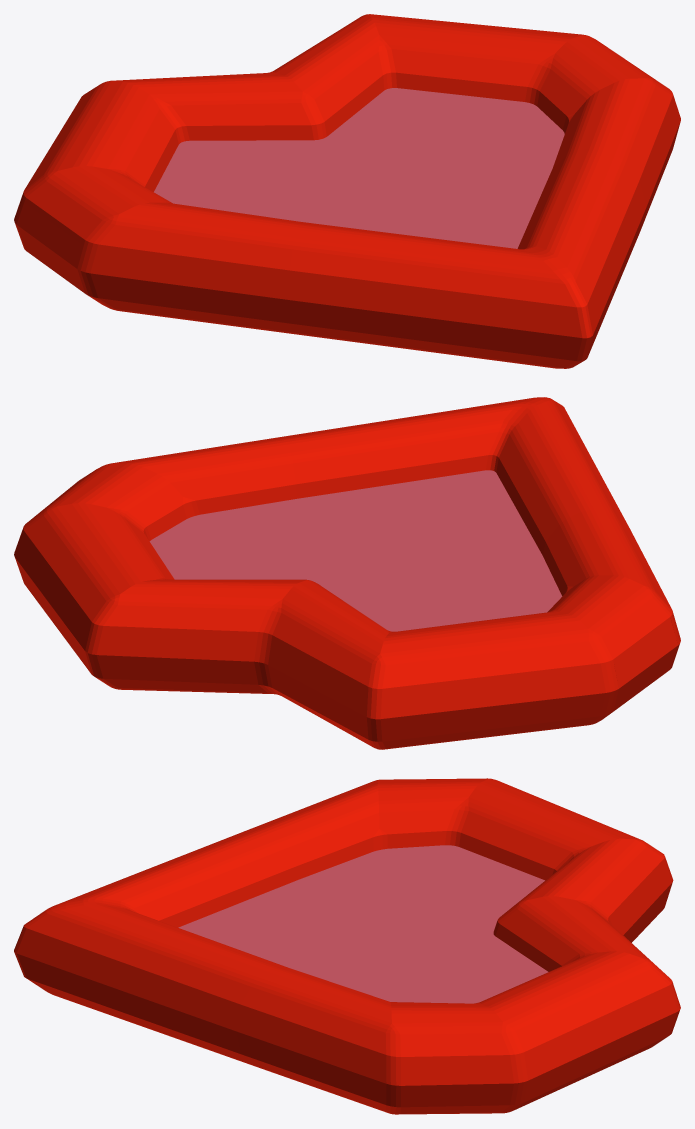
Rendered from SM_Love_Symbol.fbx.
3 views of the same model, one above another, from view 1: azimuth 30°, elevation 25°; view 2: azimuth 150°, elevation 25°; view 3: azimuth 270°, elevation 25° (orthographic). The views are drawn at different scales.
Visible parts, largest first — view 1: SM_Love_Symbol; view 2: SM_Love_Symbol; view 3: SM_Love_Symbol.
Boxes of the visible parts, <box> form: SM_Love_Symbol: <box>14,14,680,368</box>; SM_Love_Symbol: <box>14,397,680,749</box>; SM_Love_Symbol: <box>14,778,680,1114</box>.
Size of the model in its own units: 10.32 by 1.71 by 10.47.
